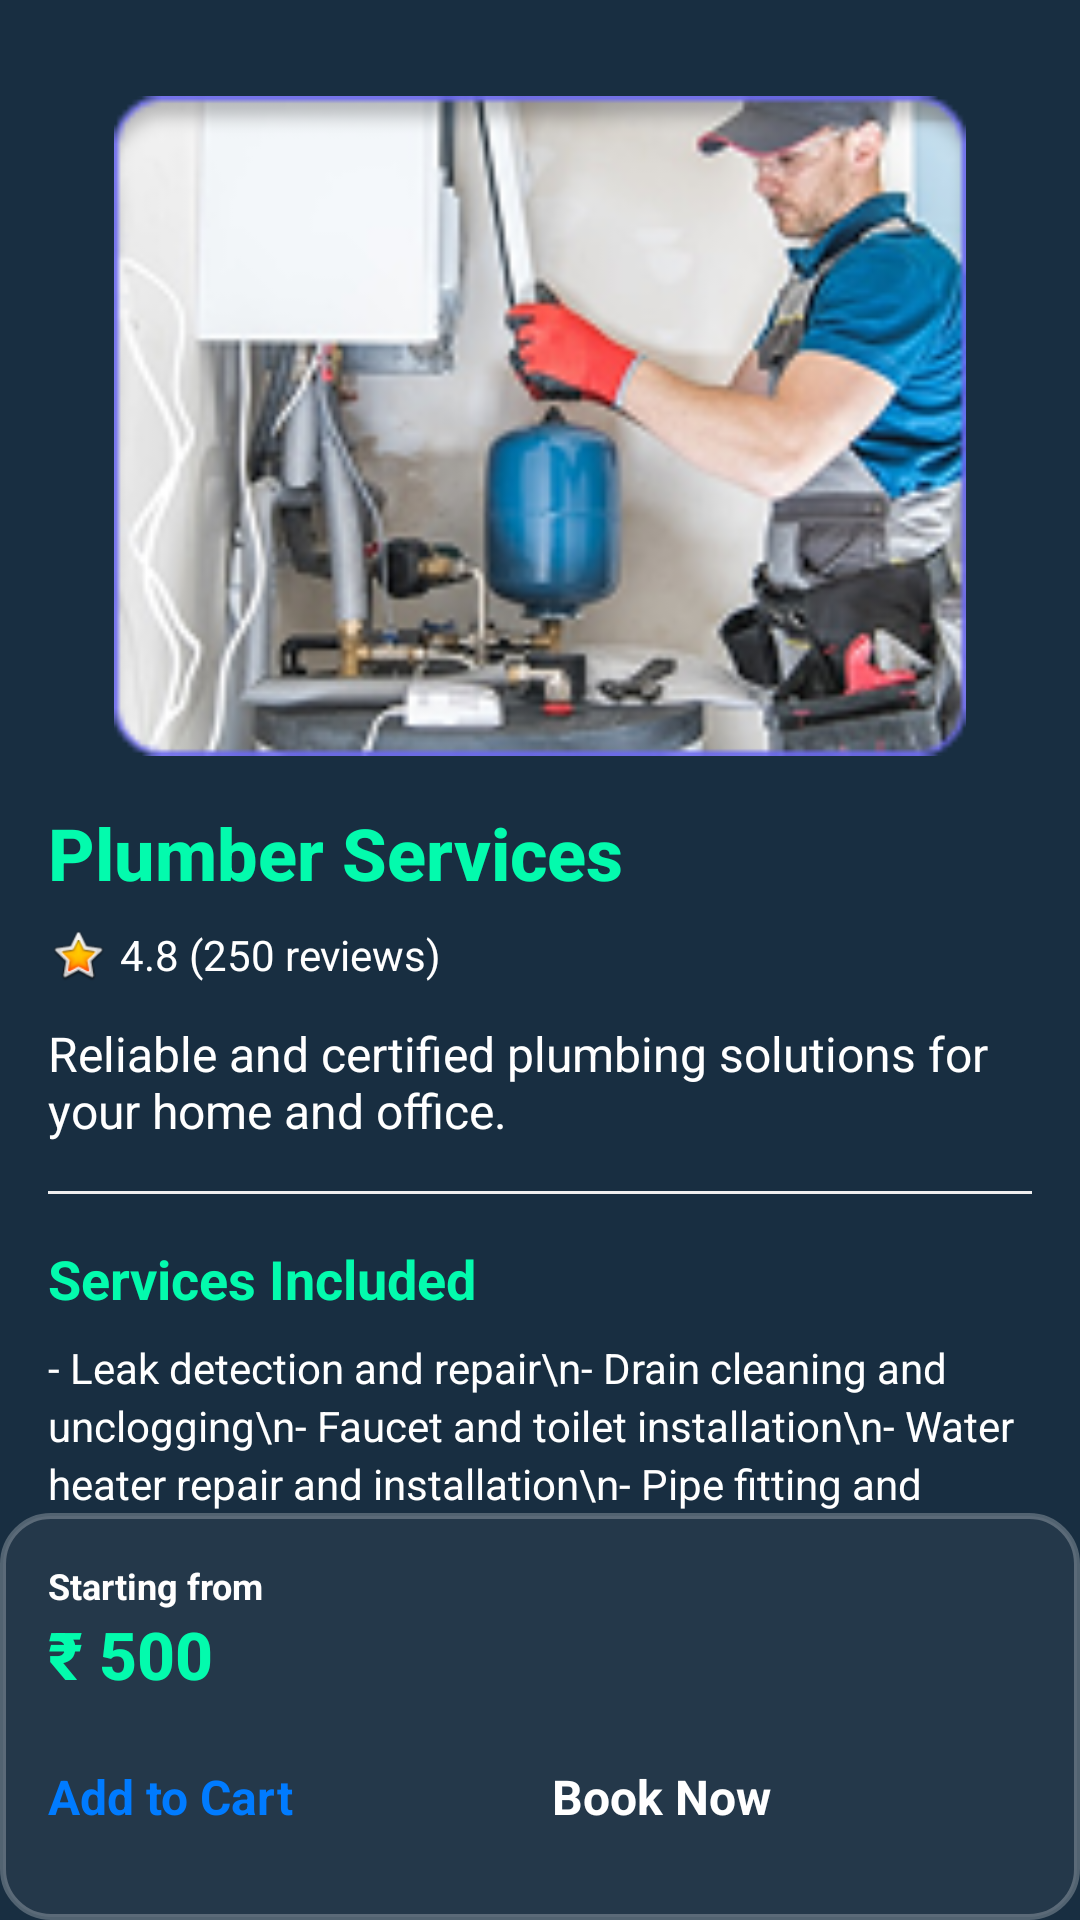

Screen size 1080px x 1920px. Icon name, then its box in pixels as Rect(x1, y1, x2, y2):
Star Rating: Rect(55, 932, 103, 978)
